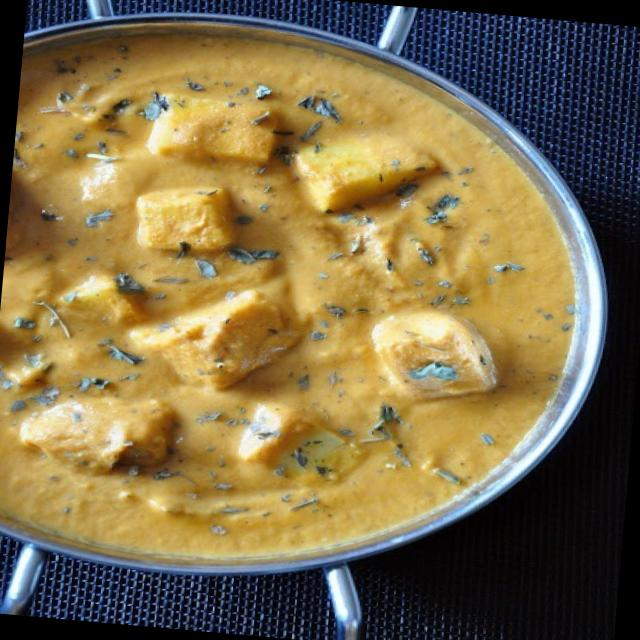ShahiPaneer: (0, 17, 592, 589)
